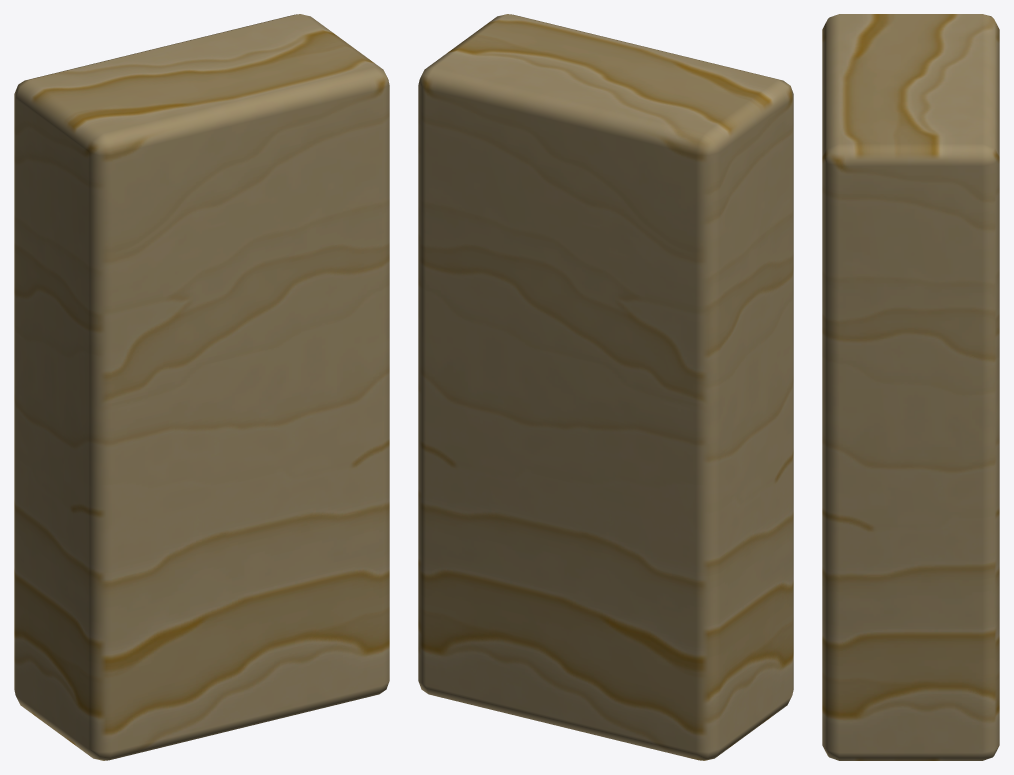
File: SM_Platform_1m_Half_01_D.glb
The picture shows the model from 3 angles, left to right: view 1: azimuth 30°, elevation 25°; view 2: azimuth 150°, elevation 25°; view 3: azimuth 270°, elevation 25°; orthographic projection.
Visible parts, largest first — view 1: SM_Platform_1m_Half_01_D; view 2: SM_Platform_1m_Half_01_D; view 3: SM_Platform_1m_Half_01_D.
Part boxes in pixels (x1,y1,x2,y2): SM_Platform_1m_Half_01_D: [14, 14, 389, 760]; SM_Platform_1m_Half_01_D: [418, 14, 793, 760]; SM_Platform_1m_Half_01_D: [822, 14, 999, 760].
Size of the model in its own units: 1 by 2 by 0.52.
Materials: 1 (1 with a texture image).
